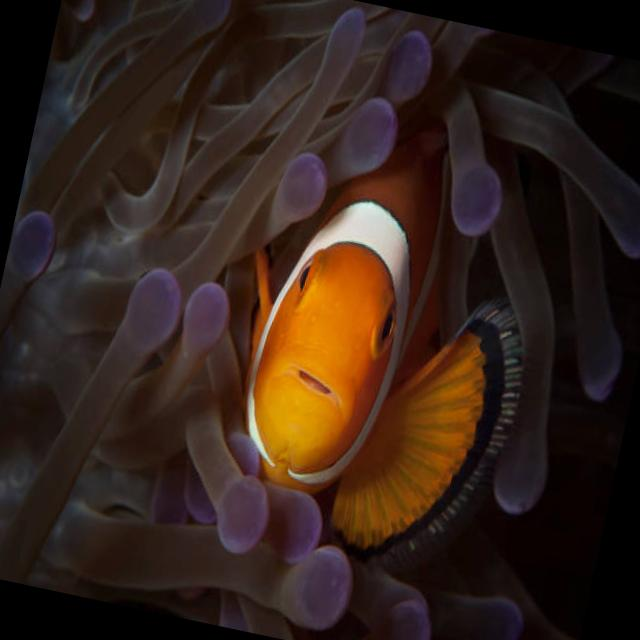ClownFish: (203, 98, 562, 580)
